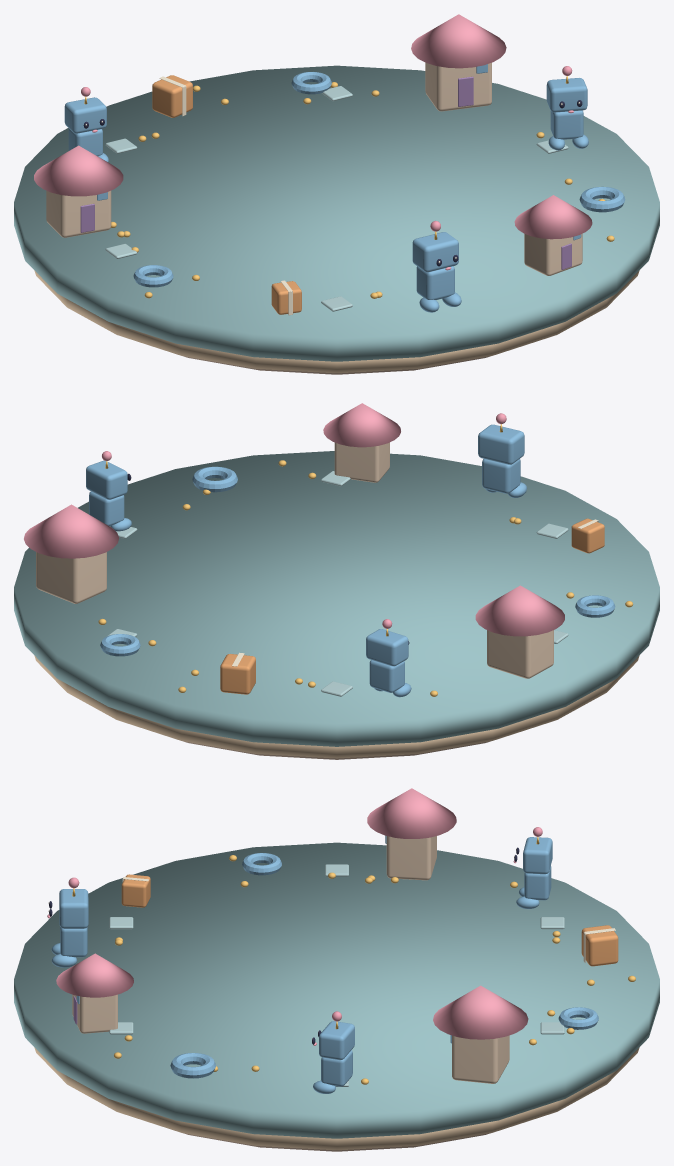
The model's file is world.glb.
The picture shows the model from 3 angles, top to bottom: view 1: azimuth 30°, elevation 25°; view 2: azimuth 150°, elevation 25°; view 3: azimuth 270°, elevation 25°; orthographic projection.
Visible parts, largest first — view 1: Cone, Cone.001, house.001, house.002, house.003, robot.003, robot.001, robot.002, parcel.001, gear.003, parcel.002, gear.002 (+2 smaller); view 2: Cone, Cone.001, house.001, house.002, house.003, robot.003, robot.002, robot.001, parcel.001, parcel.002, gear.003, gear.001 (+2 smaller); view 3: Cone, Cone.001, house.001, house.002, house.003, robot.003, robot.001, robot.002, parcel.001, gear.003, parcel.002, gear.001 (+2 smaller).
Boxes of the visible parts, box(x1,y1,x2,y2) form: Cone: box(14, 65, 659, 361); Cone.001: box(34, 270, 639, 373); house.001: box(411, 14, 506, 111); house.002: box(34, 145, 123, 237); house.003: box(514, 195, 592, 275); robot.003: box(412, 220, 461, 312); robot.001: box(546, 66, 588, 150); robot.002: box(64, 87, 108, 162); parcel.001: box(152, 75, 192, 117); gear.003: box(579, 186, 625, 212); parcel.002: box(271, 280, 301, 315); gear.002: box(133, 265, 173, 287); Cone: box(14, 451, 659, 746); Cone.001: box(34, 655, 639, 758); house.001: box(24, 504, 118, 603); house.002: box(475, 585, 564, 678); house.003: box(323, 403, 400, 482); robot.003: box(478, 413, 526, 497); robot.002: box(366, 619, 411, 697); robot.001: box(86, 451, 131, 531); parcel.001: box(220, 652, 255, 694); parcel.002: box(571, 518, 604, 553); gear.003: box(192, 466, 237, 492); gear.001: box(100, 634, 140, 656); Cone: box(14, 842, 659, 1138); Cone.001: box(34, 1047, 639, 1150); house.001: box(433, 985, 528, 1083); house.002: box(367, 788, 456, 880); house.003: box(56, 953, 133, 1033); robot.003: box(47, 877, 88, 967); robot.001: box(312, 1011, 354, 1093); robot.002: box(513, 827, 552, 909); parcel.001: box(581, 925, 618, 966); gear.003: box(170, 1053, 215, 1078); parcel.002: box(121, 874, 150, 907); gear.001: box(558, 1007, 598, 1029).
Bounding box in the file's own units: 9.6 × 2.22 × 9.6.
